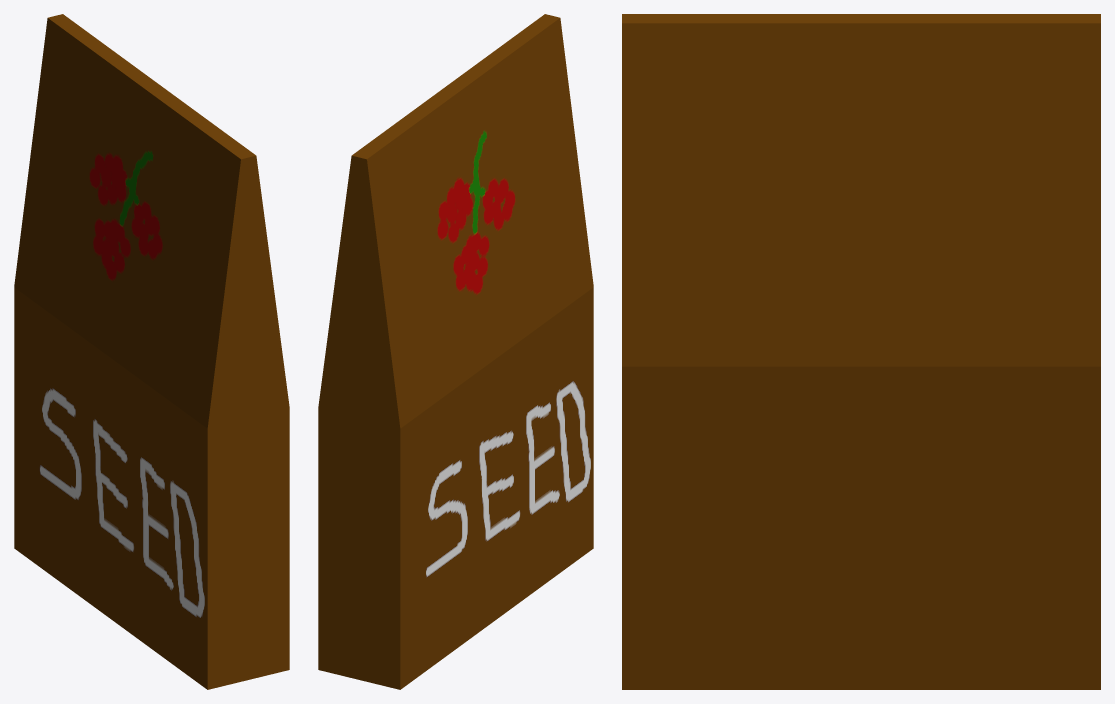
Rendered from seed.glb.
3 views of the same model, side by side, from view 1: azimuth 30°, elevation 25°; view 2: azimuth 150°, elevation 25°; view 3: azimuth 270°, elevation 25° (orthographic). The views are drawn at different scales.
Parts seen in each view (by area): view 1: Cube -col; view 2: Cube -col; view 3: Cube -col.
Part boxes in pixels (box(x1,y1,x2,y2)): Cube -col: box(14, 14, 289, 689); Cube -col: box(318, 14, 593, 689); Cube -col: box(622, 14, 1100, 689).
Bounding box in the file's own units: 0.4905 × 2.98 × 2.
Materials: 1 (1 with a texture image).
